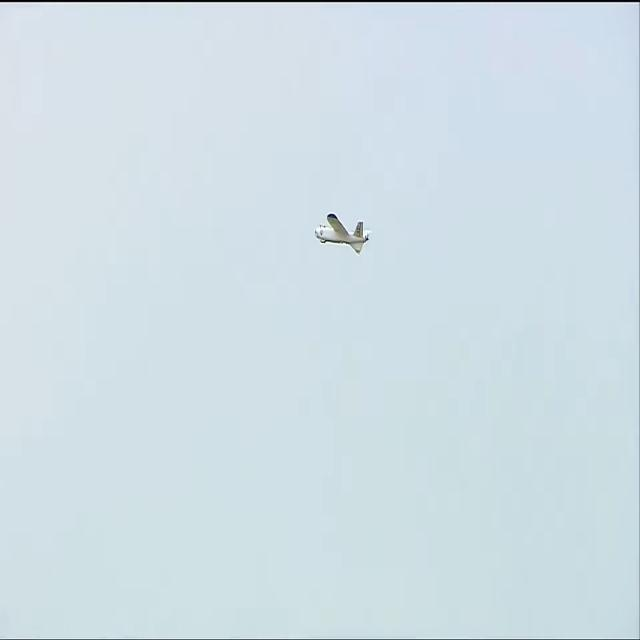iha: (313, 213, 373, 258)
